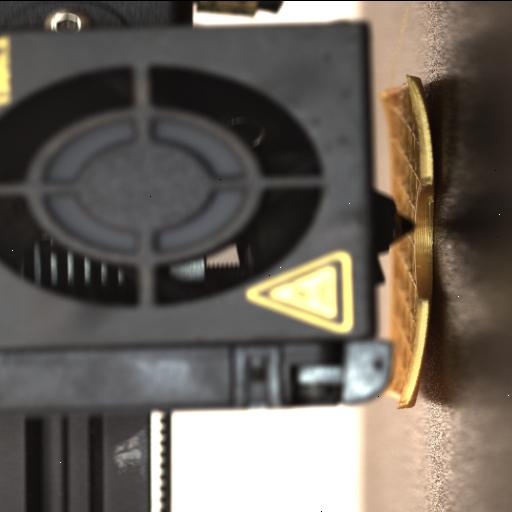warp: (398, 295, 431, 409), (406, 72, 434, 194)
